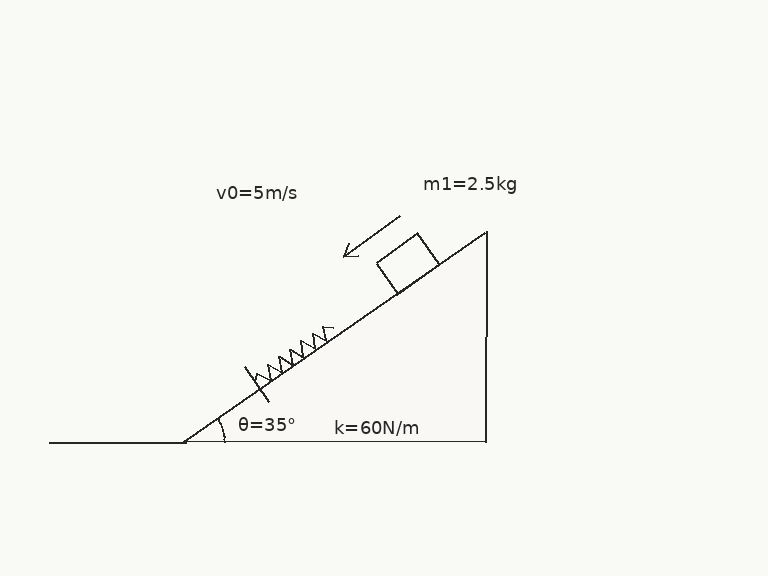block: (374, 231, 441, 295)
ramp: (183, 229, 488, 444)
spring: (253, 323, 335, 384)
